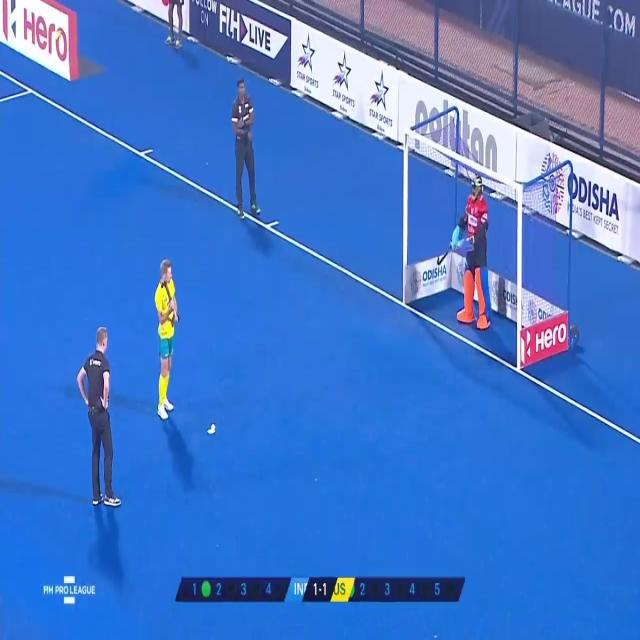ball: (202, 411, 222, 438)
